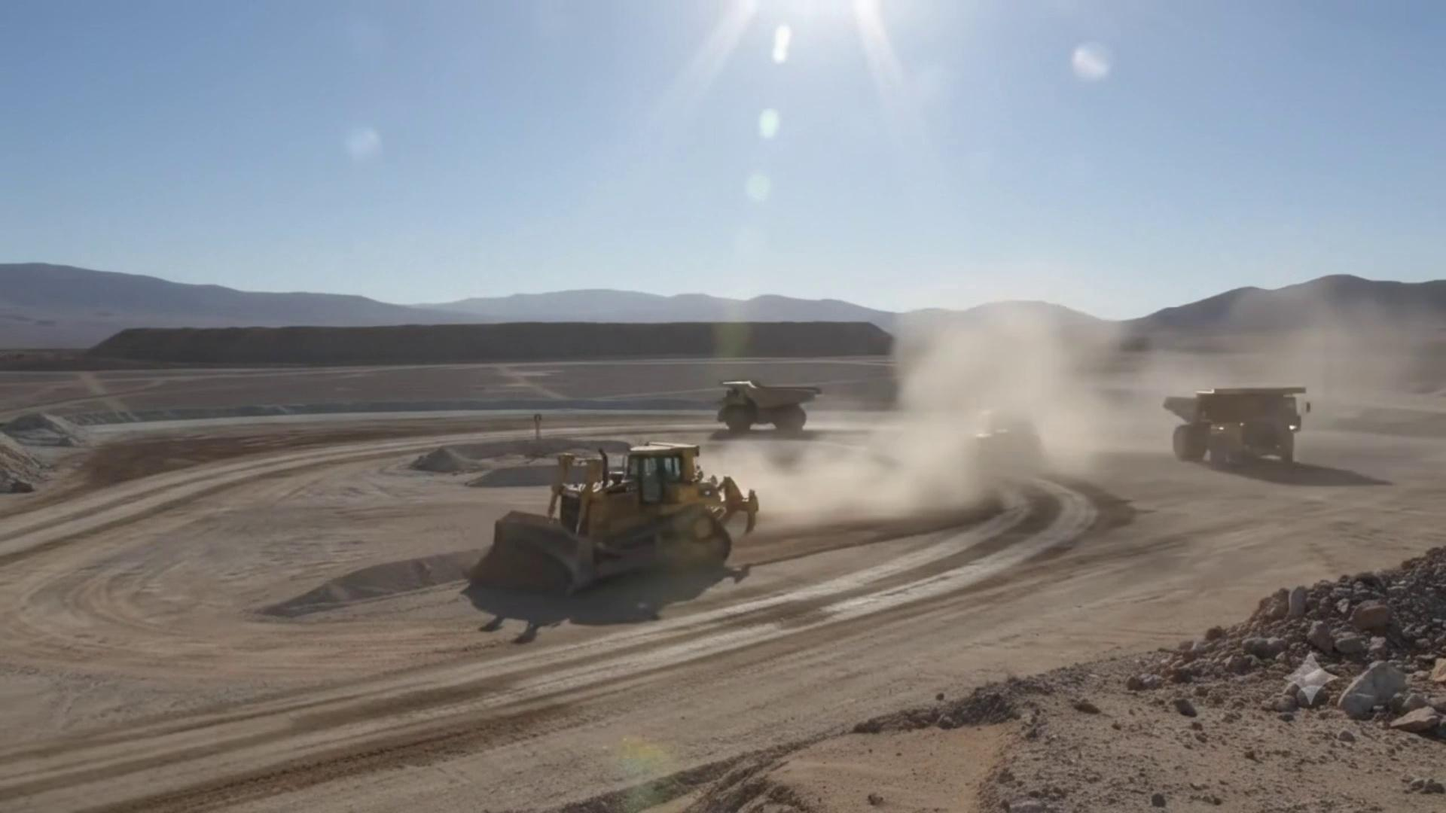CAEX: (1163, 386, 1309, 468), (716, 379, 821, 432)
bulldozer: (471, 443, 757, 592)
